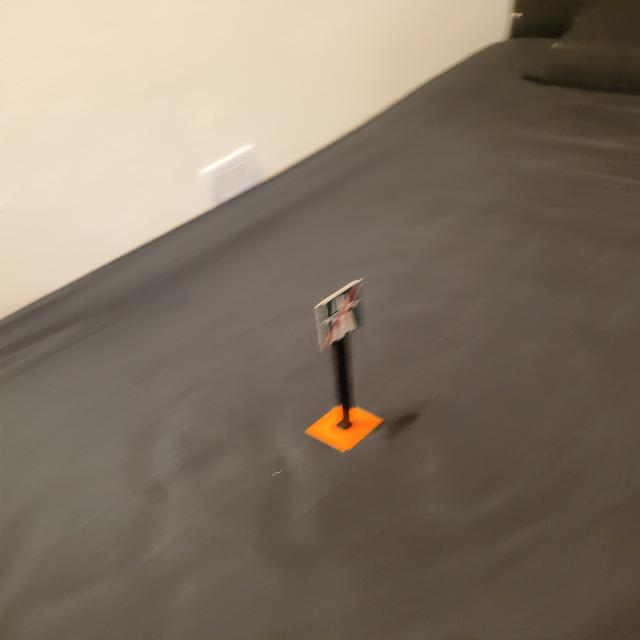highway_exit: (313, 278, 366, 353)
